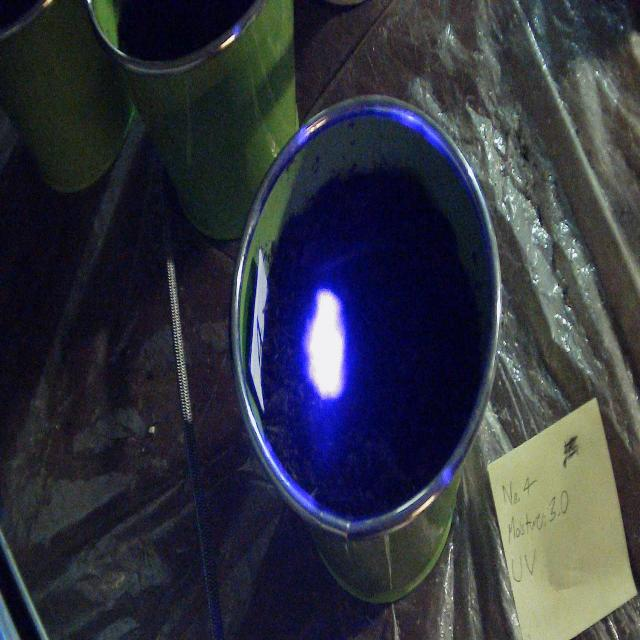soil-moisture-3.0: (301, 286, 349, 408)
